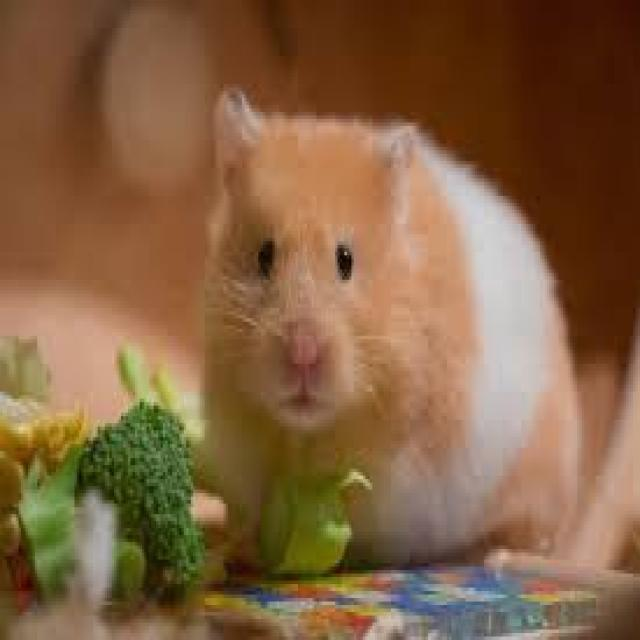hamster: (205, 108, 512, 506)
